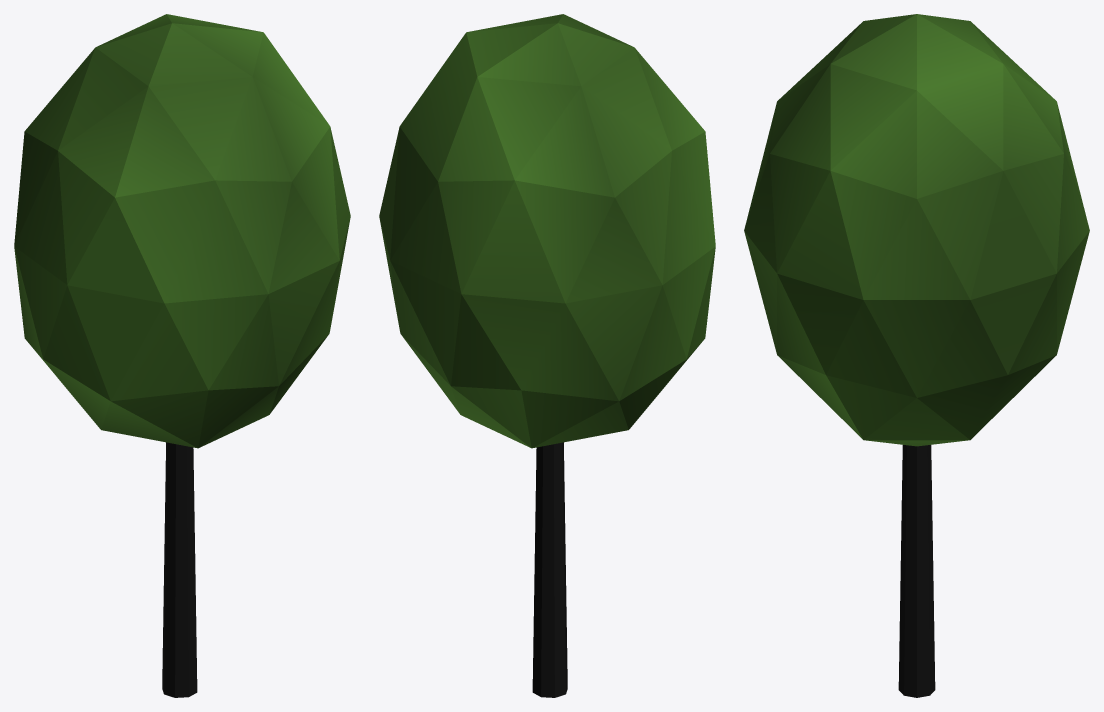
File: birch.glb
3 views of the same model, side by side, from view 1: azimuth 30°, elevation 25°; view 2: azimuth 150°, elevation 25°; view 3: azimuth 270°, elevation 25° (orthographic).
Visible parts, largest first — view 1: birch; view 2: birch; view 3: birch.
Part boxes in pixels (x1,y1,x2,y2): birch: (14, 14, 350, 697); birch: (379, 14, 715, 697); birch: (744, 14, 1089, 697).
Bounding box in the file's own units: 3.23 × 7.29 × 3.4.
